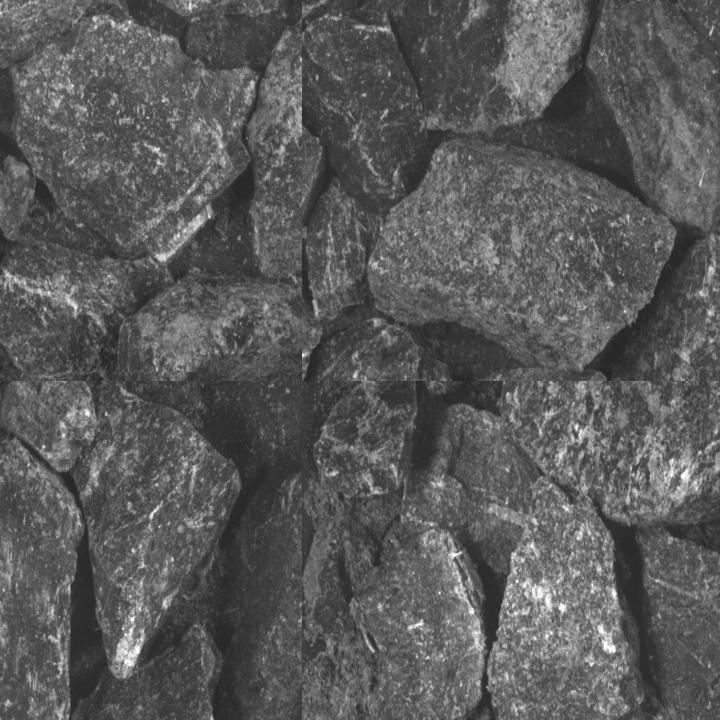stone: (367, 137, 674, 371), (12, 19, 260, 263), (74, 381, 241, 672), (489, 479, 643, 719), (355, 0, 599, 136), (585, 0, 719, 232), (502, 381, 719, 521), (204, 412, 301, 719), (351, 517, 486, 719), (302, 11, 430, 215), (405, 403, 548, 574), (0, 242, 176, 380), (0, 434, 83, 719), (107, 270, 301, 380), (599, 236, 719, 380), (633, 528, 719, 719), (245, 0, 301, 277), (70, 627, 223, 719), (312, 381, 419, 504), (0, 157, 110, 259), (306, 177, 383, 322), (302, 318, 452, 380), (0, 0, 130, 68), (3, 381, 95, 473), (0, 381, 89, 430), (302, 103, 326, 242), (411, 381, 513, 390), (185, 24, 208, 56)
